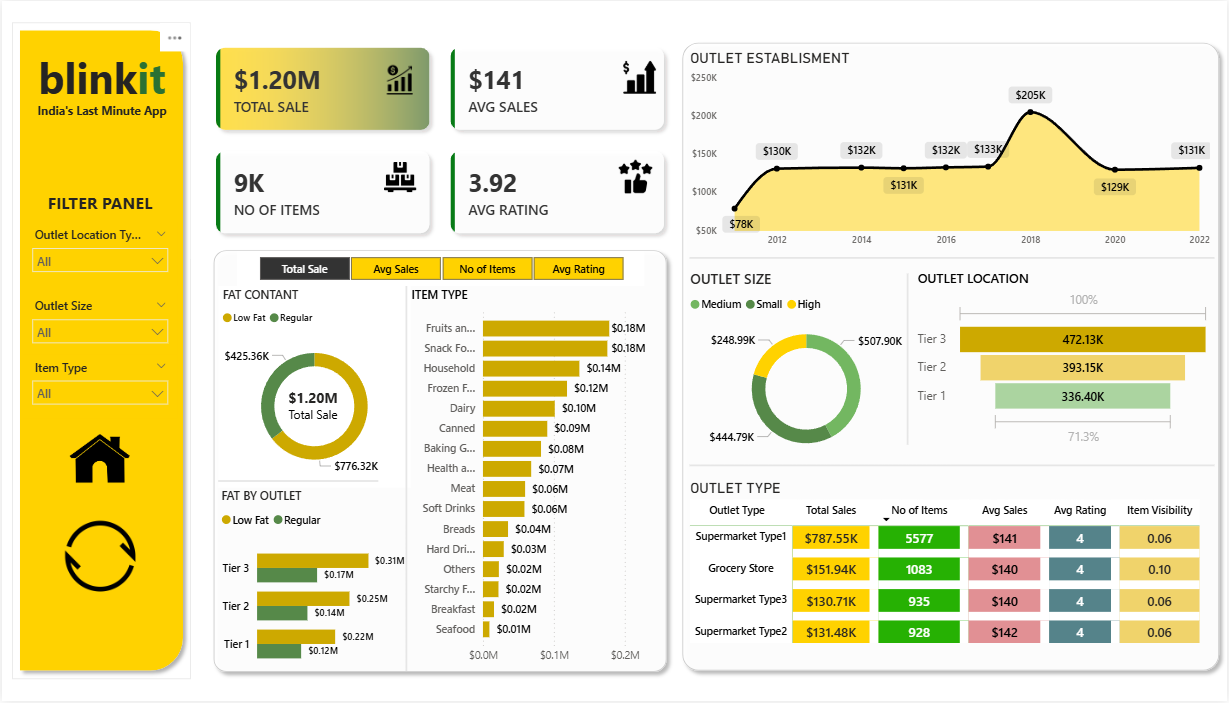

Layout of this report page (visuals, bound fields, positions):
{"tool":"powerbi","page":{"name":"Page 1","canvas":[1400,800],"ordinal":0},"visuals":[{"type":"shape","box":[11.8,25,204.4,750],"z":0},{"type":"textbox","box":[28.6,50,171.4,78.6],"z":1000},{"type":"textbox","box":[28.6,111.4,171.4,34.3],"z":2000},{"type":"cardVisual","fields":{"Data":["BlinkIT Grocery Data.Total Sale","BlinkIT Grocery Data.Avg Sales","BlinkIT Grocery Data.No of Items","BlinkIT Grocery Data.Avg Rating"]},"box":[215.7,24.3,570,270],"z":3000},{"type":"image","box":[428.6,72.9,51.4,34.3],"z":4000},{"type":"image","box":[700,67.1,57.1,40],"z":5000},{"type":"image","box":[428.6,182.9,52.9,37.1],"z":6000},{"type":"image","box":[700,181.4,48.6,38.6],"z":7000},{"type":"shape","box":[232.9,275.7,535.7,500],"z":8000},{"type":"donutChart","title":"FAT CONTANT","fields":{"Y":["BlinkIT Grocery Data.Total Sales"],"Category":["BlinkIT Grocery Data.Item Fat Content"]},"box":[247.1,325.7,220,230],"z":9000},{"type":"slicer","fields":{"Values":["matrics.matrics"]},"box":[268.6,285.7,465.7,40],"z":10000},{"type":"cardVisual","fields":{"Data":["BlinkIT Grocery Data.Total Sales"]},"box":[281.4,425.7,148.6,71.4],"z":11000},{"type":"clusteredBarChart","title":"FAT BY OUTLET","fields":{"Y":["BlinkIT Grocery Data.Total Sales"],"Category":["BlinkIT Grocery Data.Outlet Location Type"],"Series":["BlinkIT Grocery Data.Item Fat Content"]},"box":[245.7,555.7,220,220],"z":12000},{"type":"shape","box":[247.1,541.4,182.9,14.3],"z":13000},{"type":"shape","box":[457.1,325.7,10,440],"z":14000},{"type":"barChart","title":"ITEM TYPE","fields":{"Y":["BlinkIT Grocery Data.Total Sales"],"Category":["BlinkIT Grocery Data.Item Type"]},"box":[462.9,325.7,294.3,440],"z":15000},{"type":"shape","box":[768.6,38.6,631.4,735.7],"z":16000},{"type":"lineChart","title":"OUTLET ESTABLISMENT","fields":{"Category":["BlinkIT Grocery Data.Outlet Establishment Year"],"Y":["BlinkIT Grocery Data.Total Sales"]},"box":[781.4,54.3,604.3,235.7],"z":17000},{"type":"shape","box":[785.7,285.7,600,15.7],"z":18000},{"type":"donutChart","title":"OUTLET SIZE","fields":{"Y":["BlinkIT Grocery Data.Total Sales"],"Category":["BlinkIT Grocery Data.Outlet Size"]},"box":[781.4,305.7,275.7,225.7],"z":19000},{"type":"shape","box":[1028.6,311.4,12.9,195.7],"z":20000},{"type":"funnel","title":"OUTLET LOCATION","fields":{"Y":["Sum(BlinkIT Grocery Data.Sales)"],"Category":["BlinkIT Grocery Data.Outlet Location Type"]},"box":[1041.4,305.7,344.3,207.1],"z":21000},{"type":"shape","box":[785.7,522.9,600,15.7],"z":22000},{"type":"pivotTable","title":"OUTLET TYPE","fields":{"Rows":["BlinkIT Grocery Data.Outlet Type"],"Values":["BlinkIT Grocery Data.Total Sales","BlinkIT Grocery Data.No of Items","BlinkIT Grocery Data.Avg Sales","BlinkIT Grocery Data.Avg Rating","Avg(BlinkIT Grocery Data.Item Visibility)"]},"box":[781.4,545.7,604.3,208.6],"z":23000},{"type":"slicer","fields":{"Values":["BlinkIT Grocery Data.Outlet Location Type"]},"box":[24.3,252.9,175.7,72.9],"z":24000},{"type":"slicer","fields":{"Values":["BlinkIT Grocery Data.Outlet Size"]},"box":[24.3,334.3,175.7,72.9],"z":25000},{"type":"slicer","fields":{"Values":["BlinkIT Grocery Data.Item Type"]},"box":[24.3,404.3,175.7,72.9],"z":26000},{"type":"textbox","box":[38.6,212.9,147.1,40],"z":27000},{"type":"image","box":[55.7,455.7,115.7,132.9],"z":28000},{"type":"image","box":[34.3,572.9,155.7,122.9],"z":28001}]}

Visuals, with their boxes in screenshot pixels (x1, y1, x2, y2), scaled from the page's 1400x800 canvas onto the 1229x703 screenshot:
shape: (10, 22, 190, 681)
textbox: (25, 44, 176, 113)
textbox: (25, 98, 176, 128)
cardVisual - BlinkIT Grocery Data.Total Sale x BlinkIT Grocery Data.Avg Sales: (189, 21, 690, 259)
image: (376, 64, 421, 94)
image: (614, 59, 665, 94)
image: (376, 161, 423, 193)
image: (614, 159, 657, 193)
shape: (204, 242, 675, 682)
"FAT CONTANT" donutChart: (217, 286, 410, 488)
slicer - matrics.matrics: (236, 251, 645, 286)
cardVisual - BlinkIT Grocery Data.Total Sales: (247, 374, 377, 437)
"FAT BY OUTLET" clusteredBarChart: (216, 488, 409, 682)
shape: (217, 476, 377, 488)
shape: (401, 286, 410, 673)
"ITEM TYPE" barChart: (406, 286, 665, 673)
shape: (675, 34, 1228, 680)
"OUTLET ESTABLISMENT" lineChart: (686, 48, 1216, 255)
shape: (690, 251, 1216, 265)
"OUTLET SIZE" donutChart: (686, 269, 928, 467)
shape: (903, 274, 914, 446)
"OUTLET LOCATION" funnel: (914, 269, 1216, 451)
shape: (690, 459, 1216, 473)
"OUTLET TYPE" pivotTable: (686, 480, 1216, 663)
slicer - BlinkIT Grocery Data.Outlet Location Type: (21, 222, 176, 286)
slicer - BlinkIT Grocery Data.Outlet Size: (21, 294, 176, 358)
slicer - BlinkIT Grocery Data.Item Type: (21, 355, 176, 419)
textbox: (34, 187, 163, 222)
image: (49, 400, 150, 517)
image: (30, 503, 167, 611)
